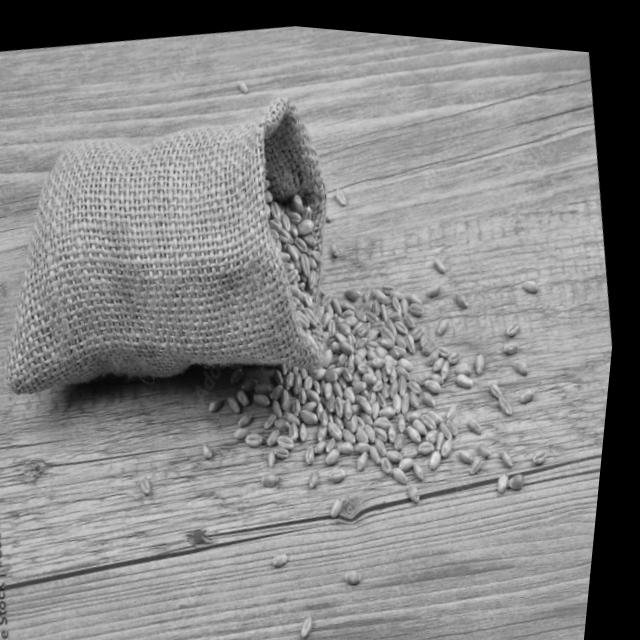sack: (0, 63, 367, 419)
